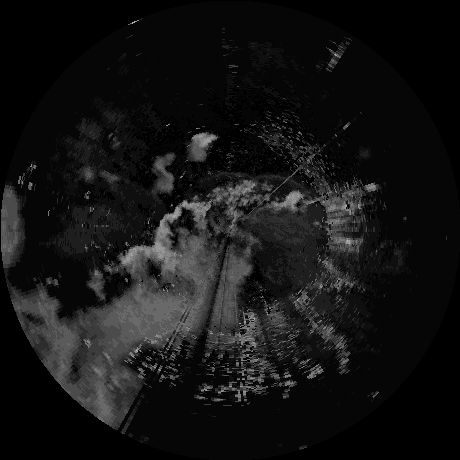frontgust: (255, 172, 312, 194), (206, 169, 248, 178)
